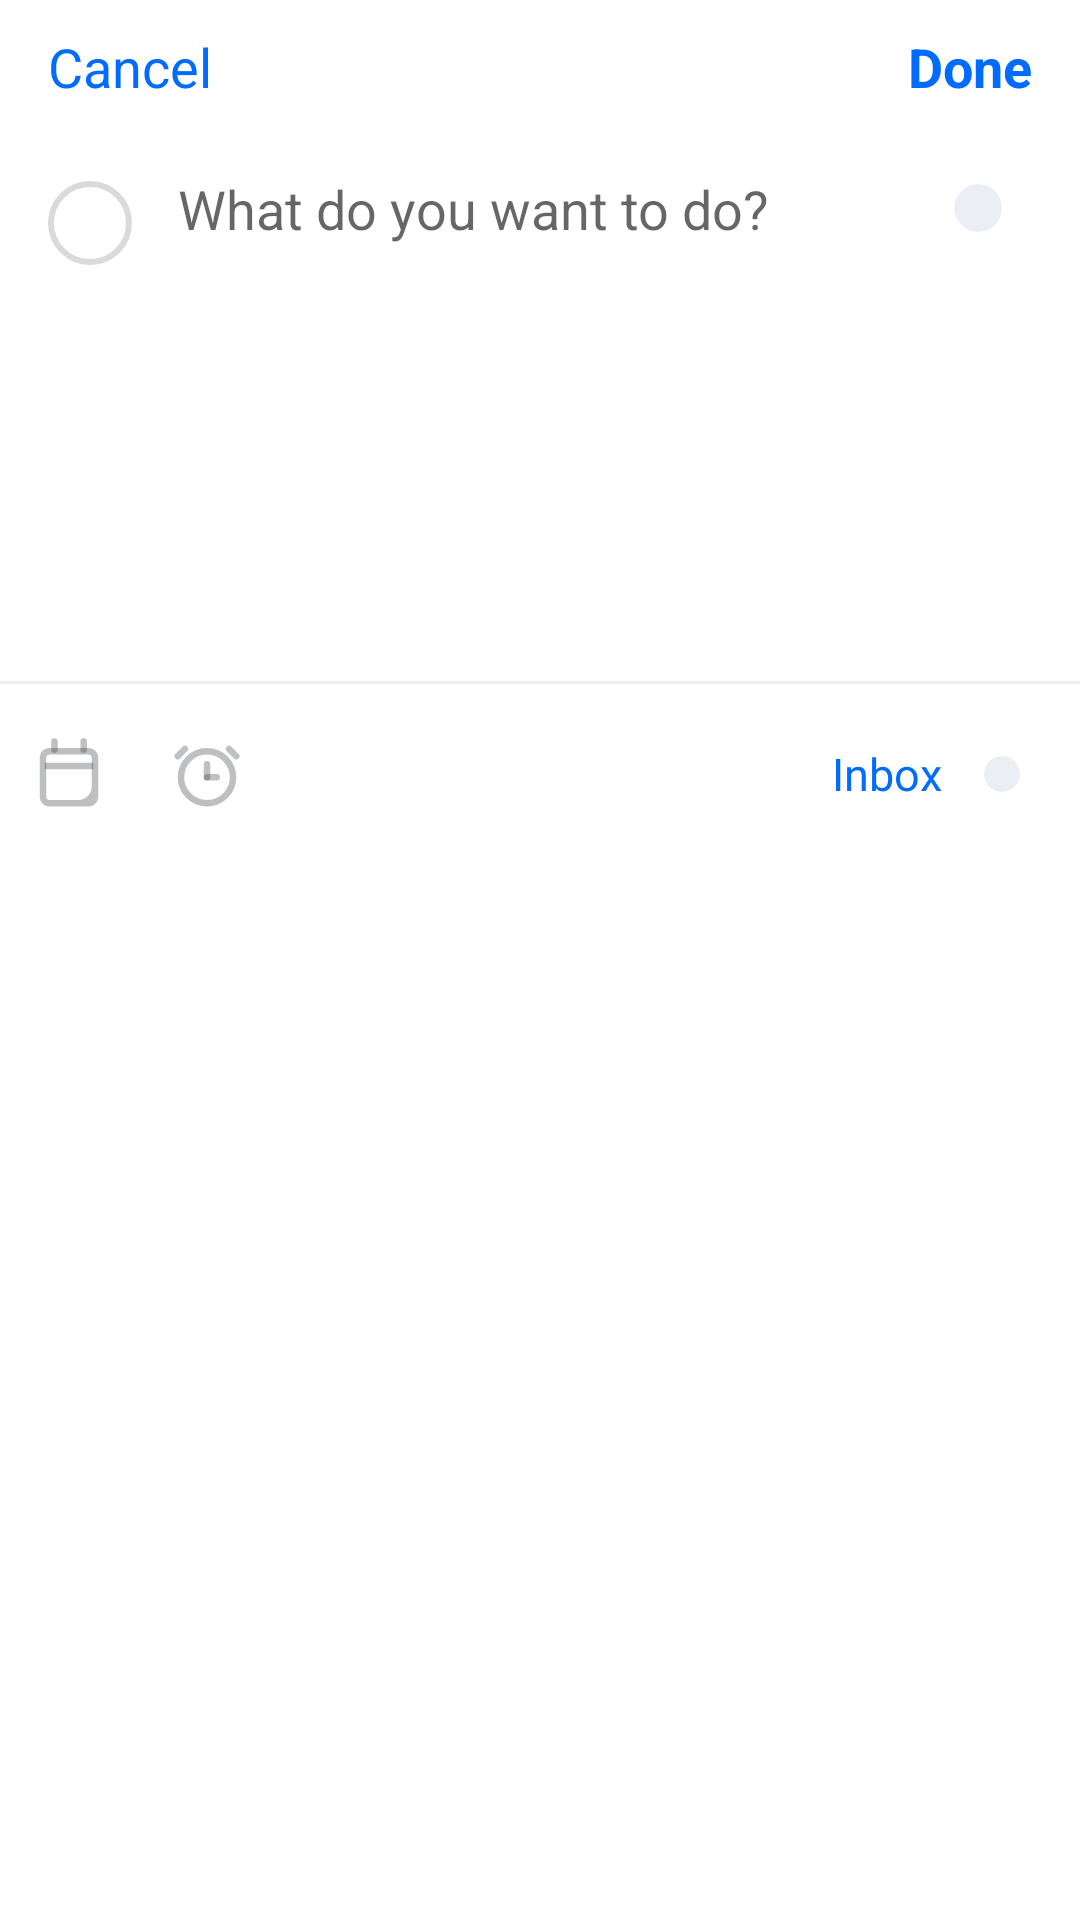

Where icons sit on this 1080x1920 app screen, as {"x1": x1, "y1": y1, "x2": x2, "y2": y2}:
circle checkbox: {"x1": 48, "y1": 181, "x2": 132, "y2": 265}
